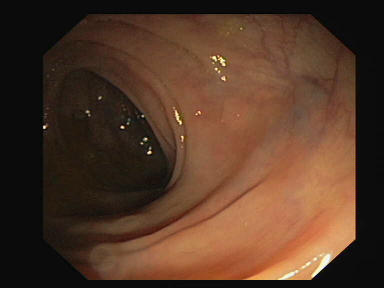polyp: (217, 88, 252, 132)
